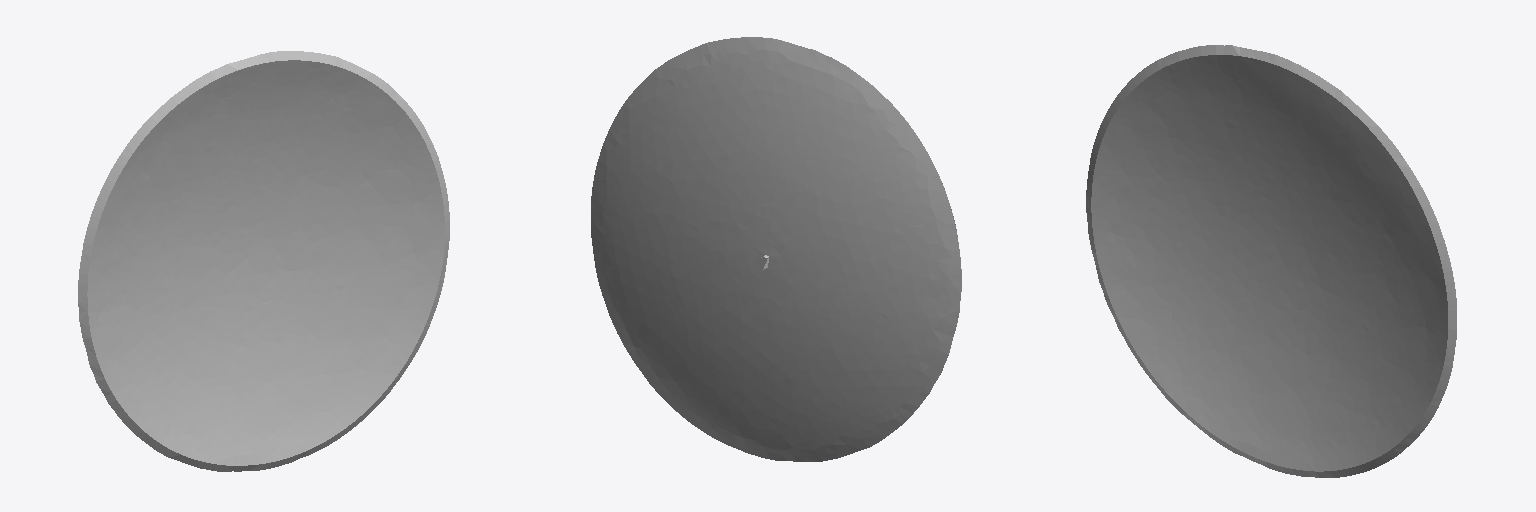
The model's file is Amulet_July_Disk_25.obj.
The picture shows the model from 3 angles: view 1: azimuth 30°, elevation 25°; view 2: azimuth 150°, elevation 25°; view 3: azimuth 330°, elevation 25°; orthographic projection.
Size of the model in its own units: 30.56 by 32.97 by 3.3.